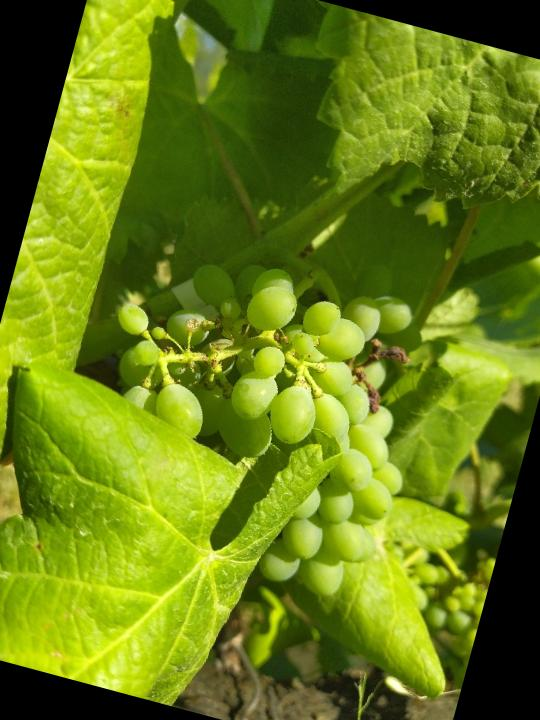grape: (55, 198, 459, 614)
